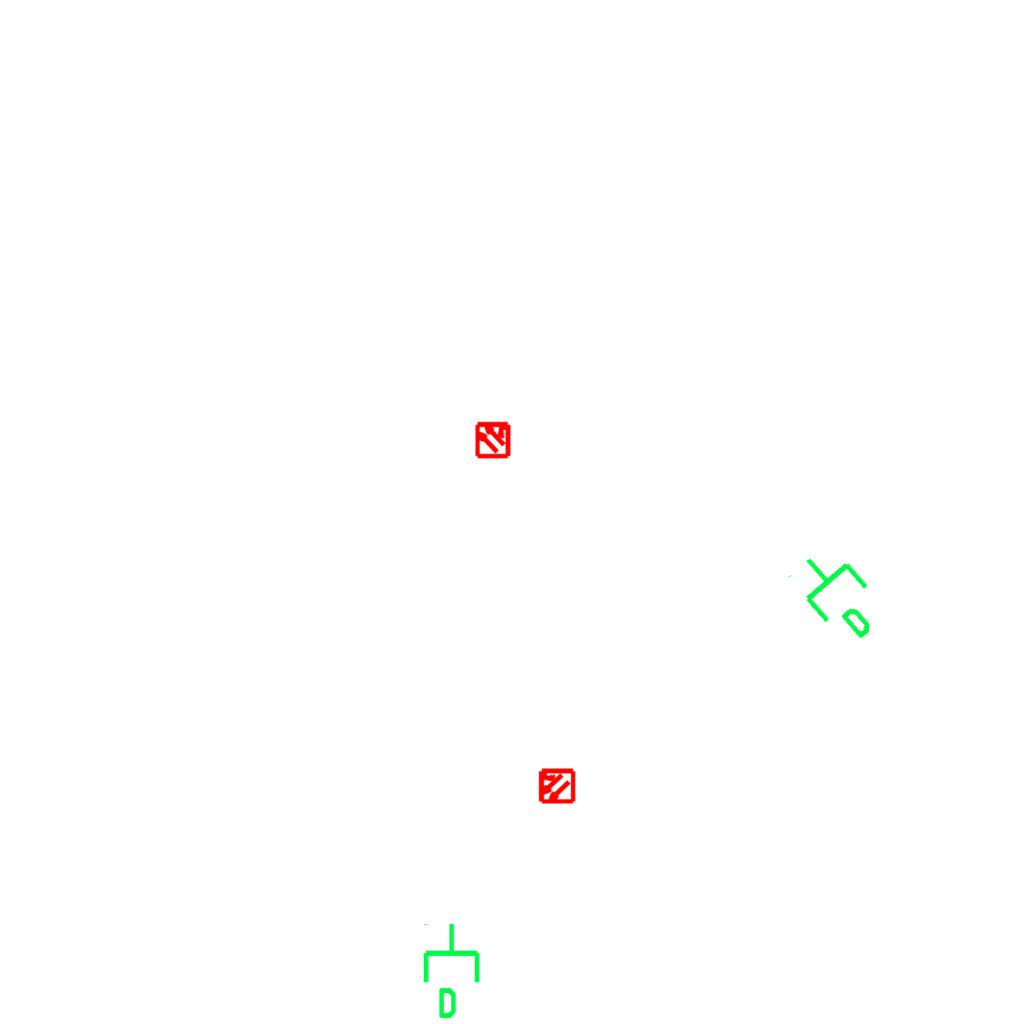Datenanschluss_einfach: (781, 533, 900, 655), (419, 921, 488, 1021)
OT_Multisensormelder_(Kombination_RMO_WMD): (465, 411, 521, 467), (528, 758, 584, 814)
